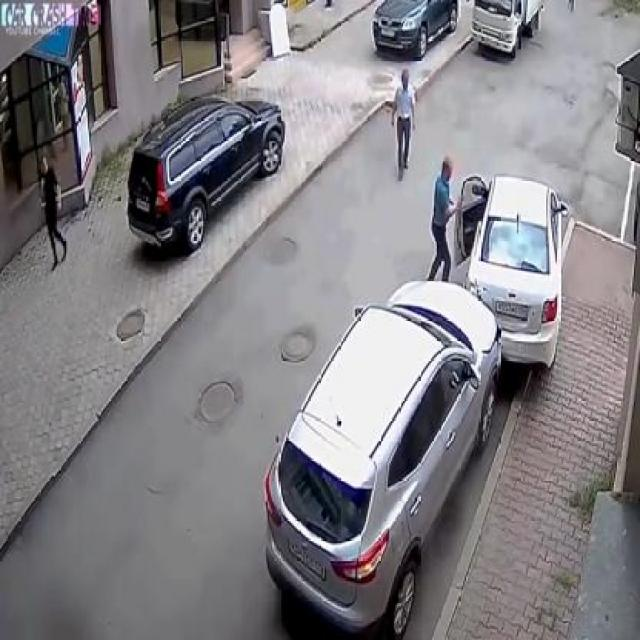accident: (341, 132, 562, 545)
